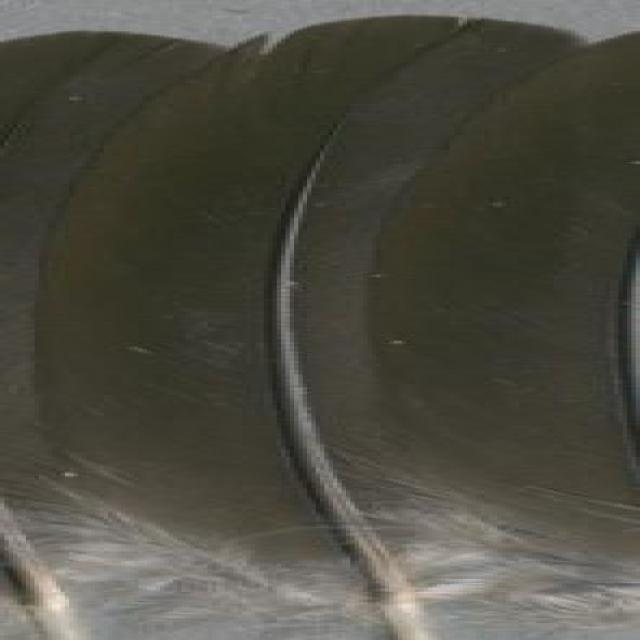feather: (28, 13, 600, 640)
